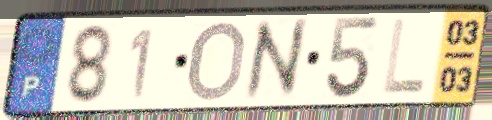1: (127, 26, 154, 100)
5: (322, 14, 382, 102)
8: (65, 22, 117, 107)
L: (379, 17, 428, 98)
N: (242, 15, 309, 104)
O: (183, 18, 249, 104)
